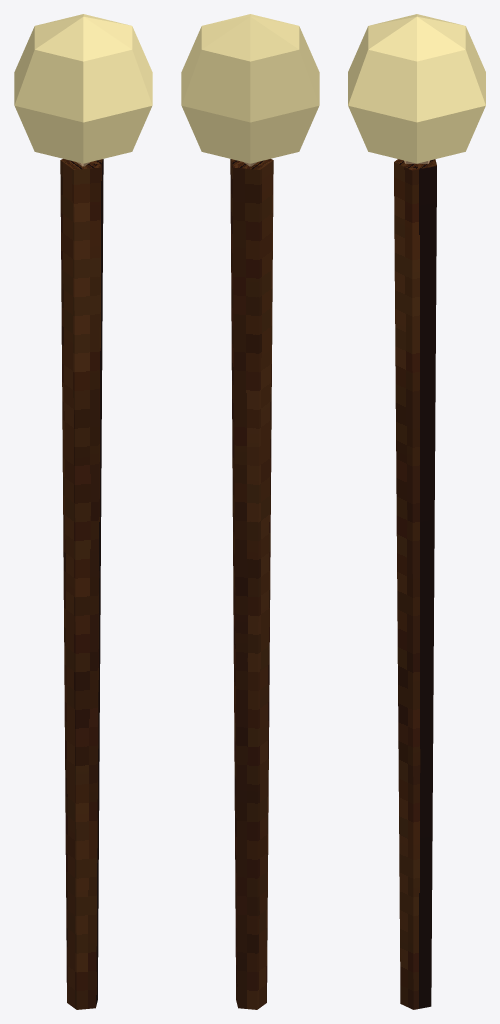
File: staff.glb
3 views of the same model, side by side, from view 1: azimuth 30°, elevation 25°; view 2: azimuth 150°, elevation 25°; view 3: azimuth 330°, elevation 25° (orthographic).
Parts seen in each view (by area): view 1: staff; view 2: staff; view 3: staff.
Boxes of the visible parts, <box> form: staff: <box>14,14,152,1009</box>; staff: <box>181,14,319,1009</box>; staff: <box>348,14,485,1009</box>.
Size of the model in its own units: 0.24 by 1.64 by 0.2078.
2 materials, 1 textured.
